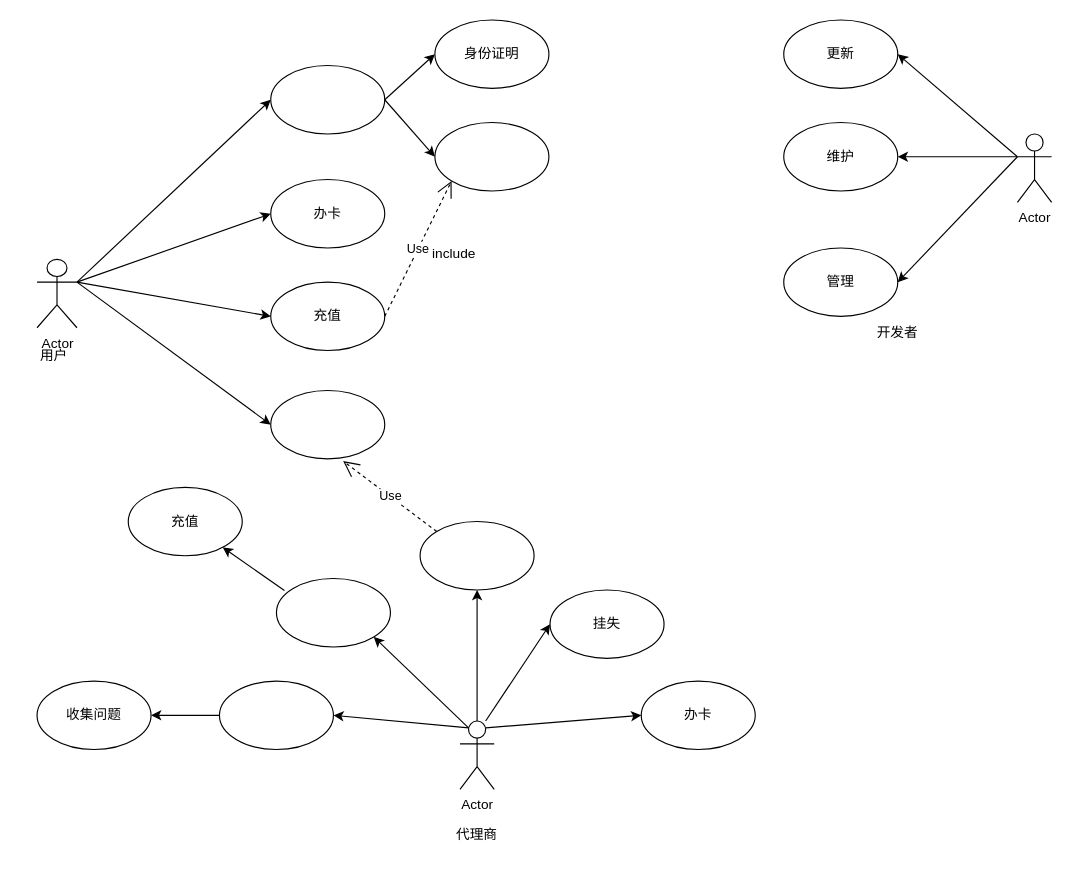
The diagram is 1072 pixels wide and 872 high, and some of its shapes have lost their labels. The centre of each missing label's shape, as x and y in pixels:
个人信息管理: pixel 327 424
使用: pixel 327 99
客服: pixel 275 715
收款: pixel 332 612
本地信息管理: pixel 476 555
消费: pixel 491 156
